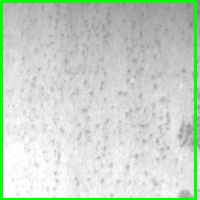pitted_surface: (1, 1, 195, 199)
